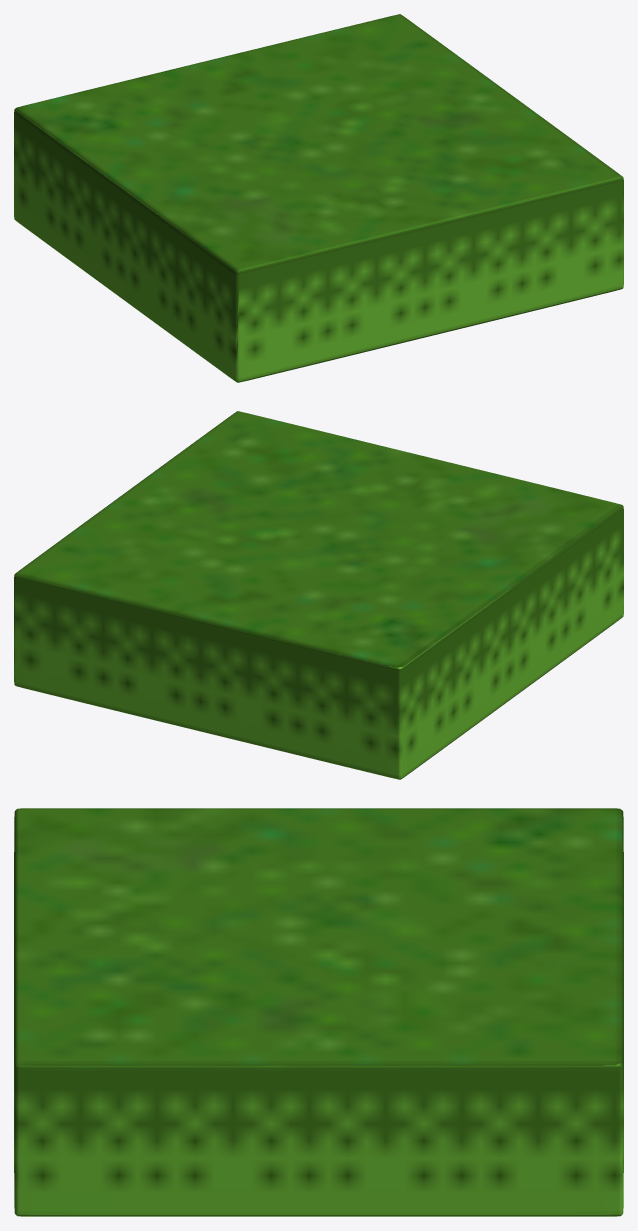
File: PixelTileGrass.fbx
3 views of the same model, one above another, from view 1: azimuth 30°, elevation 25°; view 2: azimuth 150°, elevation 25°; view 3: azimuth 270°, elevation 25° (orthographic). The views are drawn at different scales.
Visible parts, largest first — view 1: PixelBasic; view 2: PixelBasic; view 3: PixelBasic.
Part boxes in pixels (box(x1,y1,x2,y2)): PixelBasic: box(14, 14, 623, 382); PixelBasic: box(14, 411, 623, 779); PixelBasic: box(14, 808, 623, 1216).
Bounding box in the file's own units: 99.99 × 28.04 × 99.99.
1 material, 1 textured.
